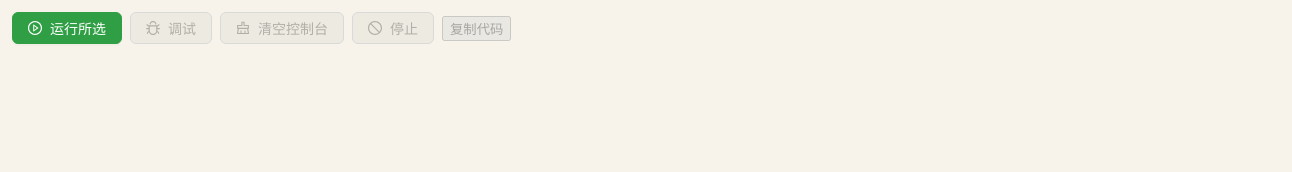
it: RunControls (Requirements 7.4, 12.7) › shows the error code/message on failure (R12.7)
This screenshot has width=1292, height=172.
Click the button labelled "运行所选": (67, 28) left=12, top=12, right=122, bottom=44
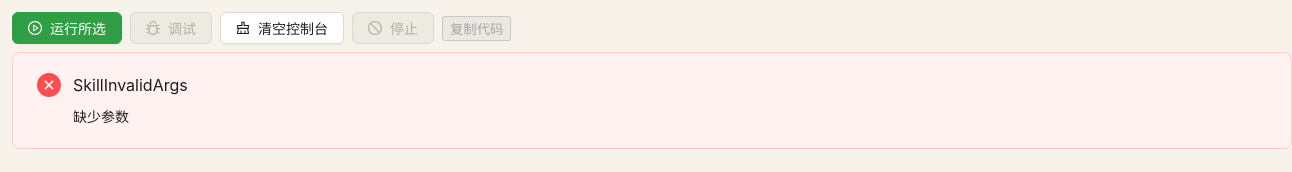
expect the text "SkillInvalidArgs" is shown: met, box left=73, top=75, right=188, bottom=95
expect the text "缺少参数" is shown: met, box left=73, top=108, right=129, bottom=125
